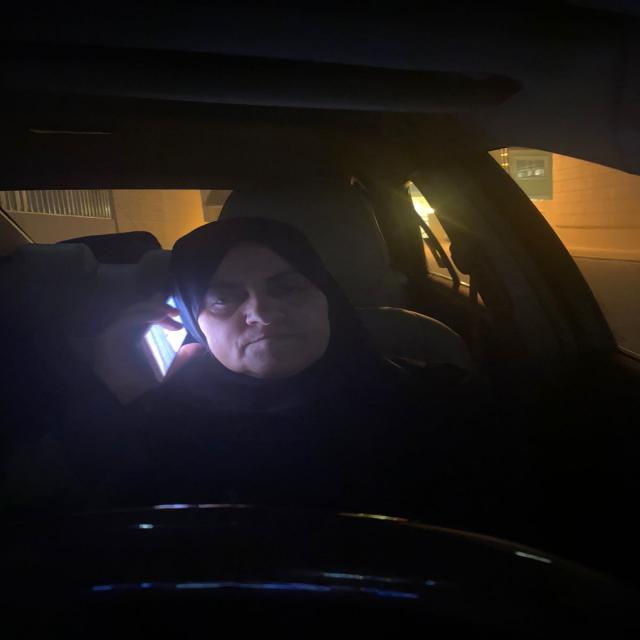mobile: (130, 287, 200, 388)
person: (190, 232, 340, 384)
